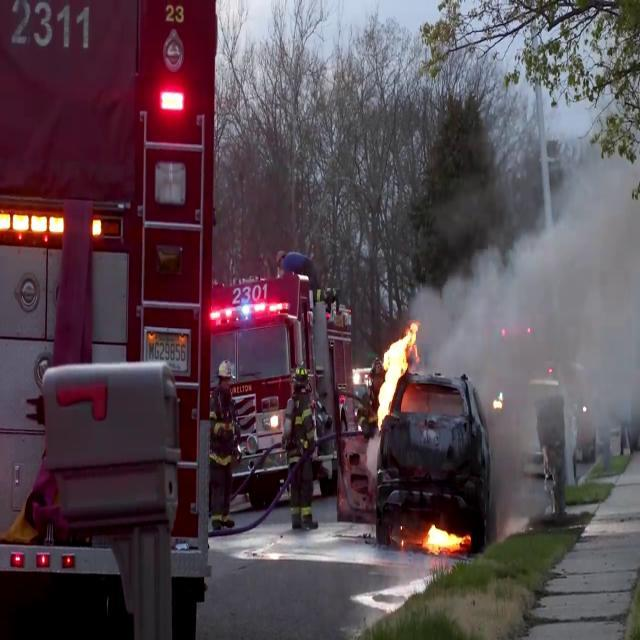Fire: (374, 314, 416, 426), (420, 517, 464, 559)
Smoke: (422, 112, 640, 420)
